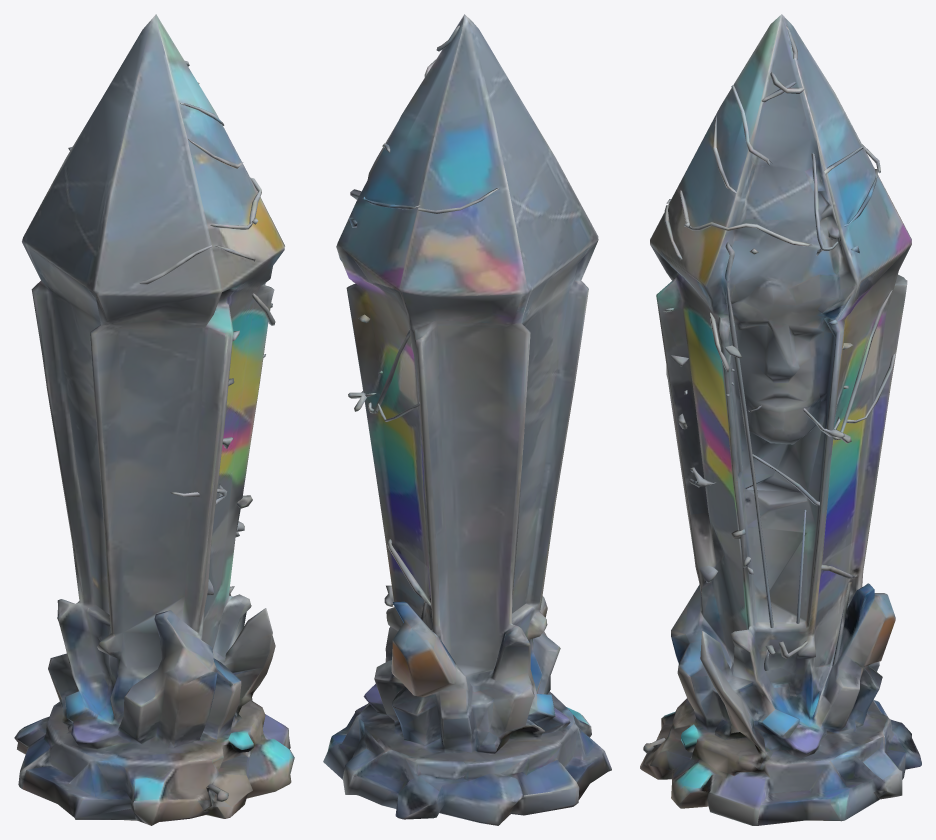
Rendered from env_glasspillar.glb.
3 renders of one model, left to right at view 1: azimuth 30°, elevation 25°; view 2: azimuth 150°, elevation 25°; view 3: azimuth 270°, elevation 25°, orthographic.
Parts seen in each view (by area): view 1: tripo_node_20a7a92b-7357-42d0-8402-e7bc1e49b3a3; view 2: tripo_node_20a7a92b-7357-42d0-8402-e7bc1e49b3a3; view 3: tripo_node_20a7a92b-7357-42d0-8402-e7bc1e49b3a3.
Part boxes in pixels (left/top/right/bottom): tripo_node_20a7a92b-7357-42d0-8402-e7bc1e49b3a3: left=14, top=14, right=294, bottom=825; tripo_node_20a7a92b-7357-42d0-8402-e7bc1e49b3a3: left=323, top=14, right=611, bottom=825; tripo_node_20a7a92b-7357-42d0-8402-e7bc1e49b3a3: left=640, top=14, right=921, bottom=825.
Bounding box in the file's own units: 0.3424 × 1 × 0.3385.
Materials: 1 (1 with a texture image).
